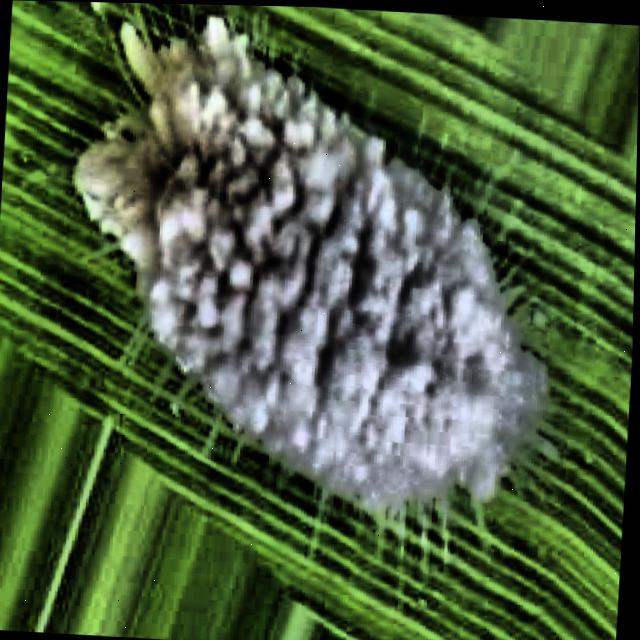Mealy-bug: (0, 3, 618, 562)
